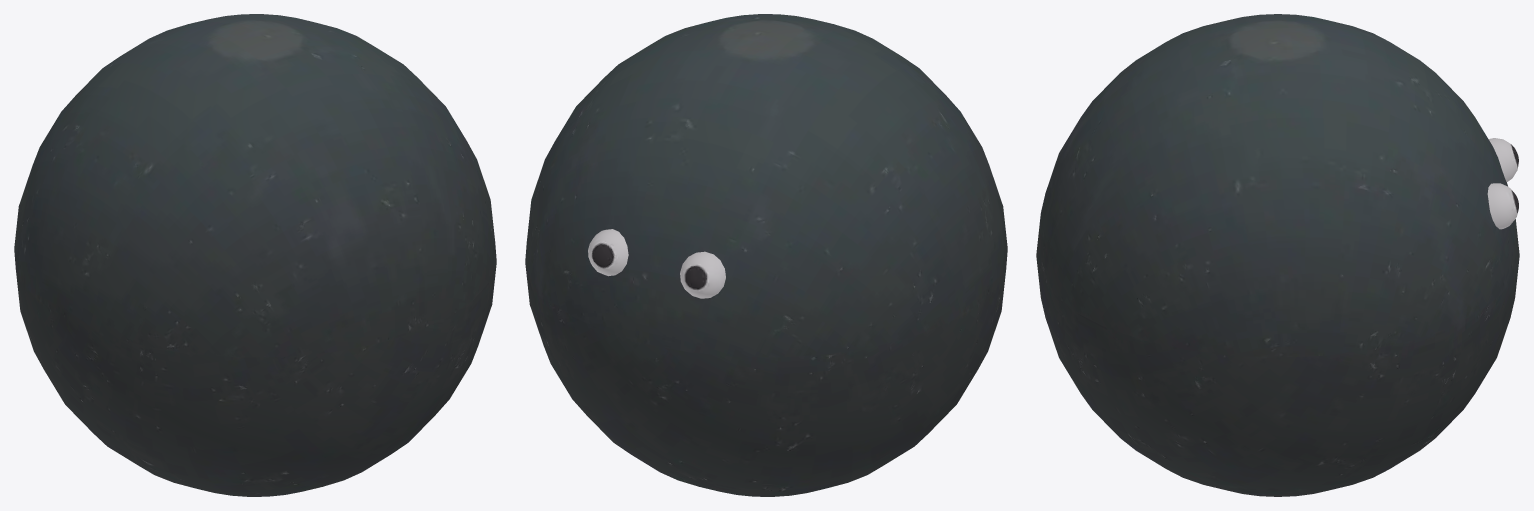
The picture shows the model from 3 angles, left to right: view 1: azimuth 30°, elevation 25°; view 2: azimuth 150°, elevation 25°; view 3: azimuth 270°, elevation 25°; orthographic projection.
Visible parts, largest first — view 1: SM_Zi_Core_01_LOD0; view 2: SM_Zi_Core_01_LOD0; view 3: SM_Zi_Core_01_LOD0.
Part boxes in pixels (<box>): SM_Zi_Core_01_LOD0: <box>14,14,496,496</box>; SM_Zi_Core_01_LOD0: <box>525,14,1007,496</box>; SM_Zi_Core_01_LOD0: <box>1036,14,1519,496</box>.
Bounding box in the file's own units: 0.5592 × 0.5592 × 0.5592.
1 material, 1 textured.
